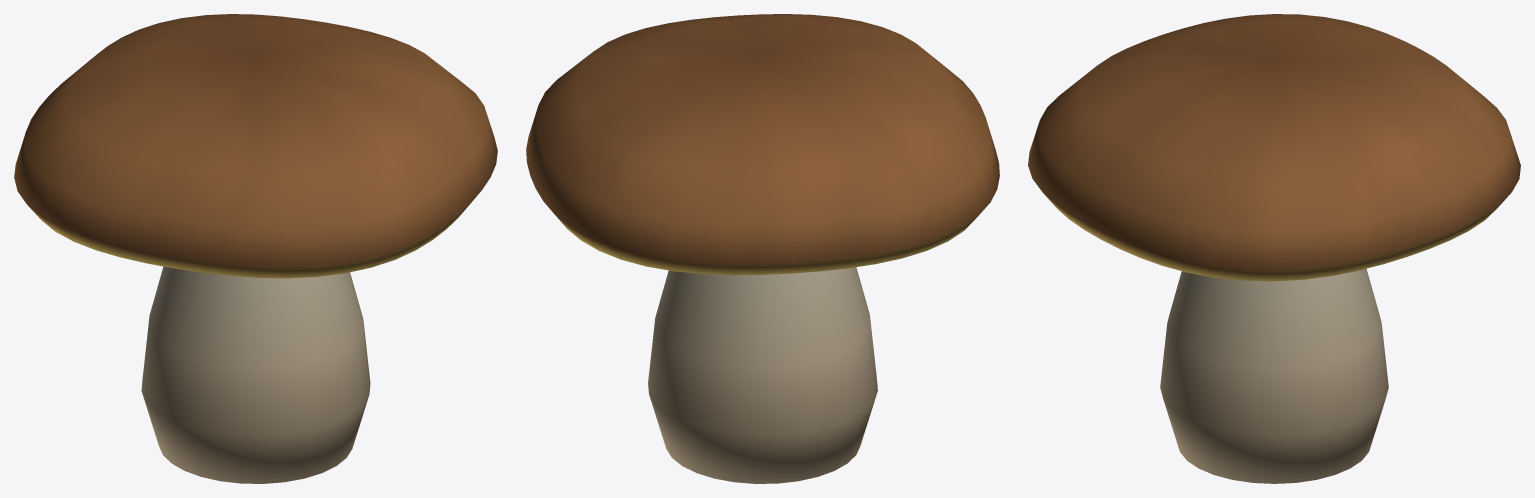
Rendered from Mushroom_Brown.fbx.
3 views of the same model, side by side, from view 1: azimuth 30°, elevation 25°; view 2: azimuth 150°, elevation 25°; view 3: azimuth 270°, elevation 25° (orthographic).
Visible parts, largest first — view 1: Mushroom_Brown; view 2: Mushroom_Brown; view 3: Mushroom_Brown.
Part boxes in pixels (<box>): Mushroom_Brown: <box>14,14,497,483</box>; Mushroom_Brown: <box>526,14,999,483</box>; Mushroom_Brown: <box>1028,14,1520,483</box>.
Bounding box in the file's own units: 4.83 × 4.15 × 4.83.
